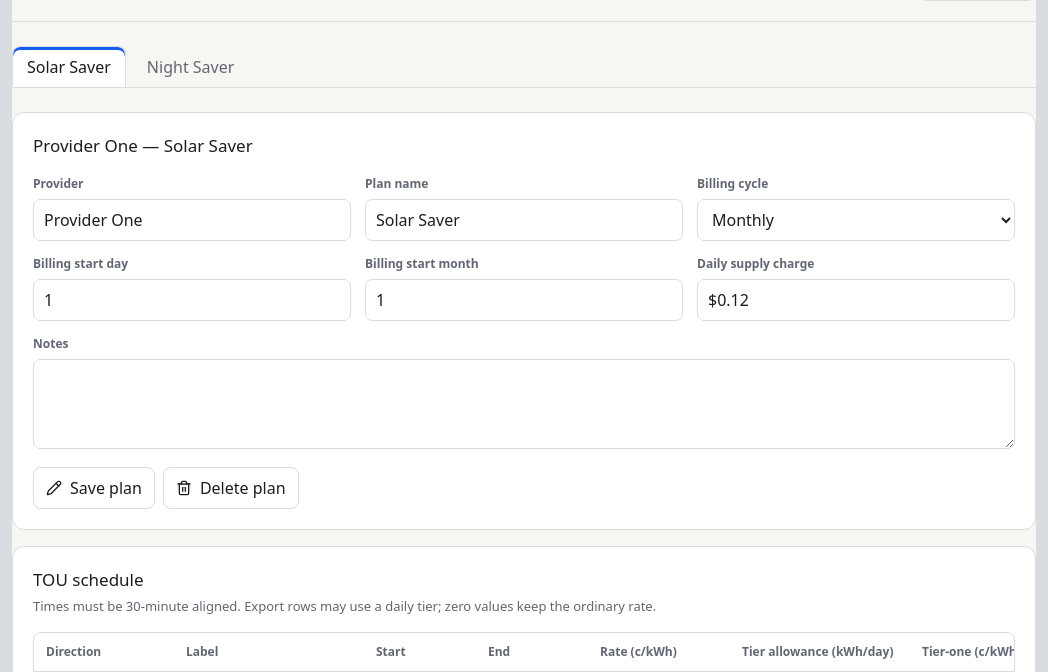
Scenario: Plans & TOU tabs › requires confirmation before deleting a plan and reports delete errors
(page scrolled)
Click the tab "Night Saver": (191, 66) top-left (132, 46), bottom-right (249, 87)
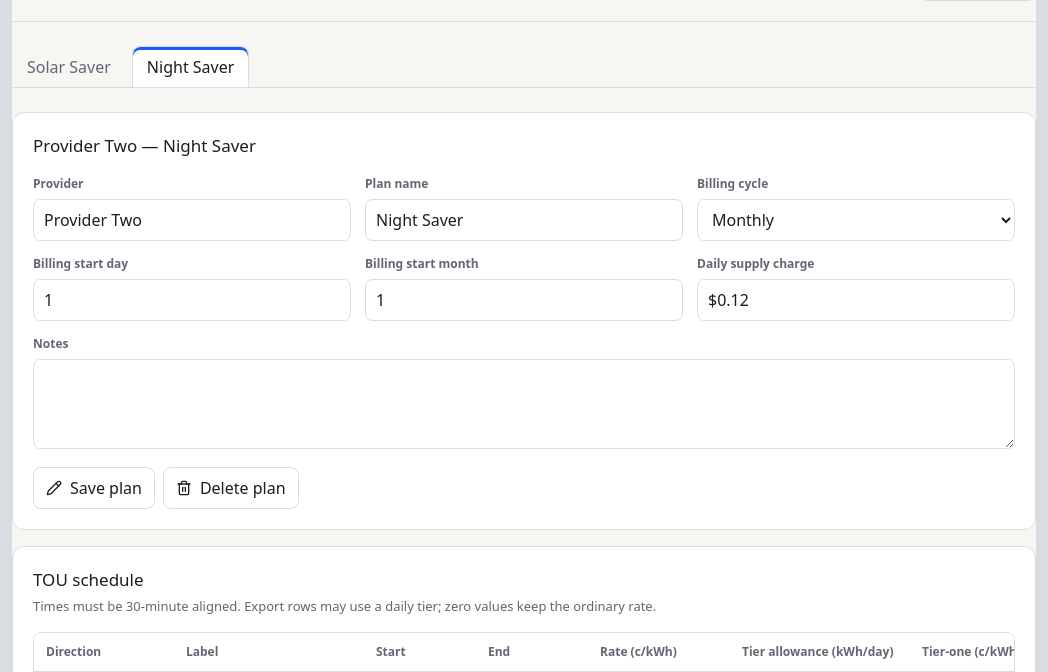
Now the form named "Night Saver settings" is shown
Click the button "Delete plan": (231, 488) top-left (163, 466), bottom-right (299, 508)
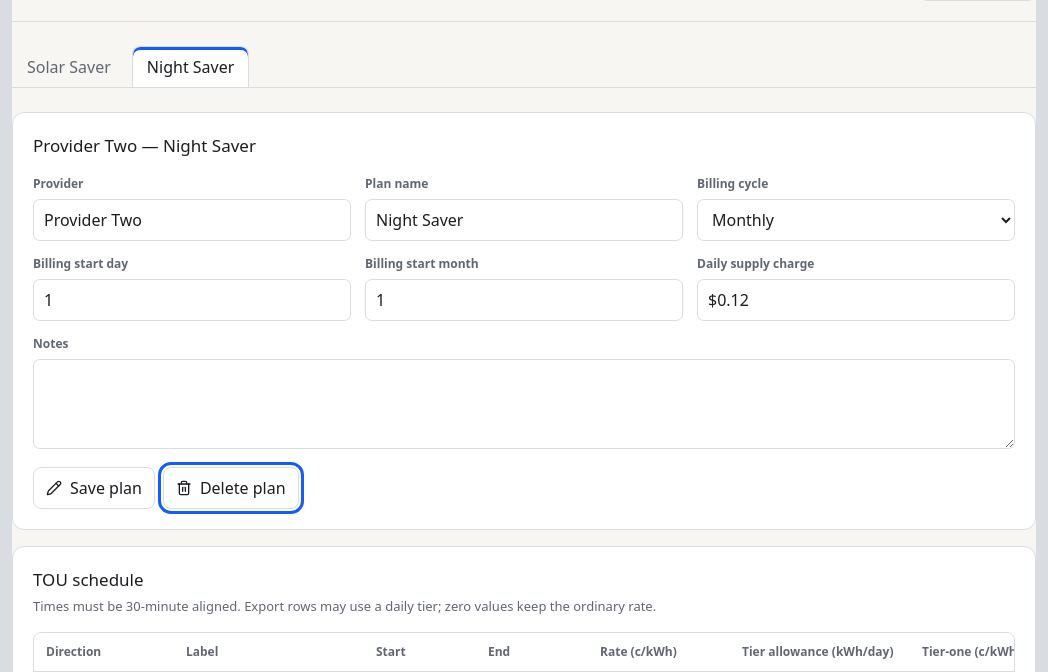
Click the button "Delete plan": (231, 488) top-left (163, 466), bottom-right (299, 508)
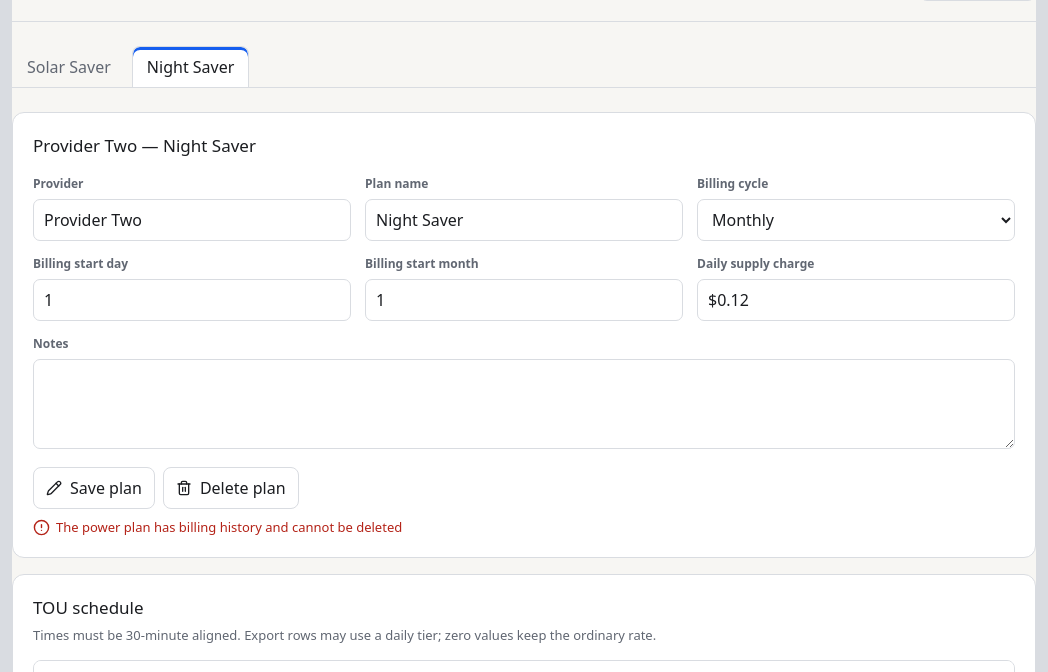
Now the message reads "The power plan has billing history and cannot be deleted", box top-left (56, 518), bottom-right (402, 536)
